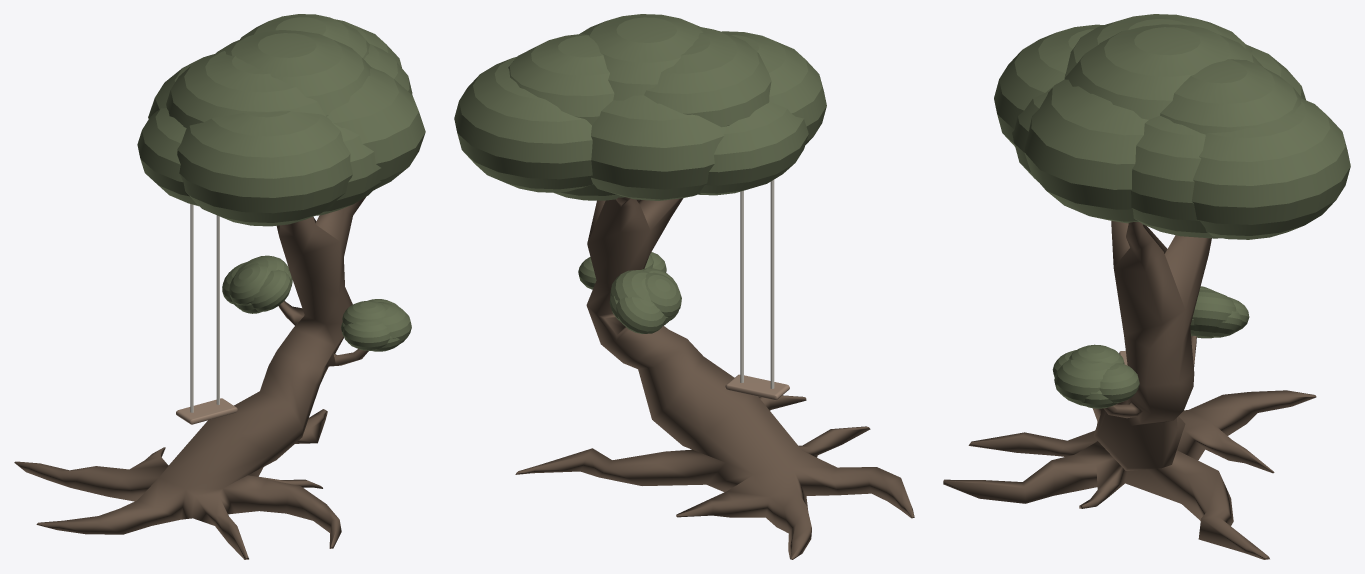
The model's file is big tree.fbx.
3 views of the same model, side by side, from view 1: azimuth 30°, elevation 25°; view 2: azimuth 150°, elevation 25°; view 3: azimuth 270°, elevation 25° (orthographic). The views are drawn at different scales.
Parts seen in each view (by area): view 1: group36_pasted__pCylinder1; view 2: group36_pasted__pCylinder1; view 3: group36_pasted__pCylinder1.
Part boxes in pixels (box(x1,y1,x2,y2)): group36_pasted__pCylinder1: box(14, 14, 425, 559); group36_pasted__pCylinder1: box(454, 14, 914, 559); group36_pasted__pCylinder1: box(943, 14, 1350, 559).
Bounding box in the file's own units: 15.79 × 16.13 × 12.45.
